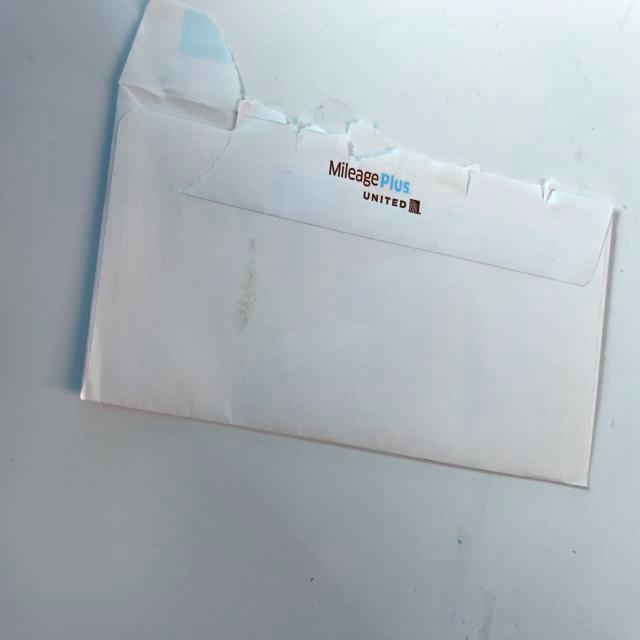paper: (78, 0, 618, 488)
